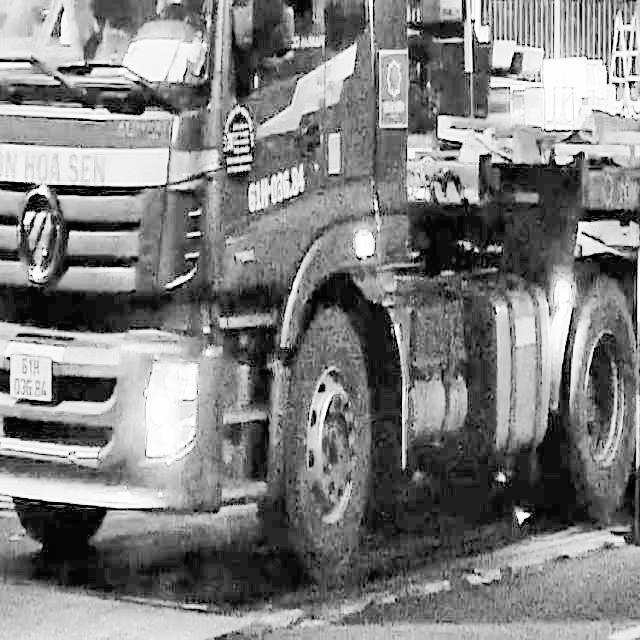Truck: (0, 0, 638, 579)
